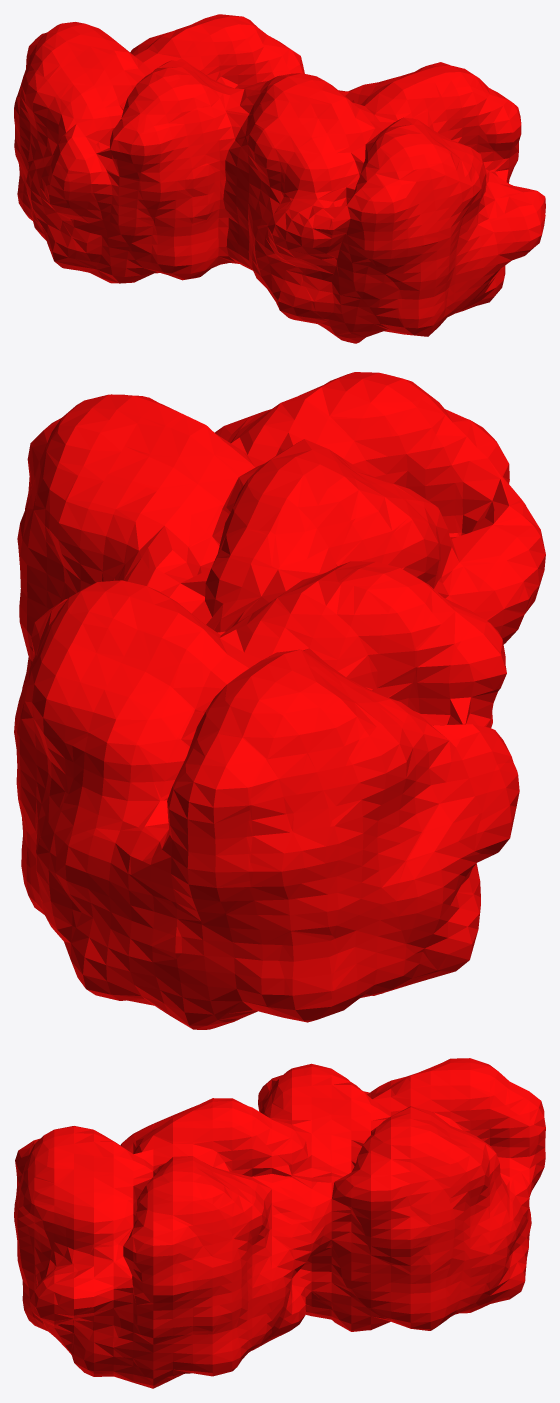
Rendered from yrdA_coarse.dae.
The picture shows the model from 3 angles, top to bottom: view 1: azimuth 30°, elevation 25°; view 2: azimuth 150°, elevation 25°; view 3: azimuth 270°, elevation 25°; orthographic projection. The views are drawn at different scales.
Visible parts, largest first — view 1: yrdA; view 2: yrdA; view 3: yrdA.
Boxes of the visible parts, bbox=[...] form: yrdA: bbox=[14, 14, 545, 343]; yrdA: bbox=[14, 372, 545, 1029]; yrdA: bbox=[14, 1058, 545, 1388].
Bounding box in the file's own units: 90.1 × 50.88 × 109.
